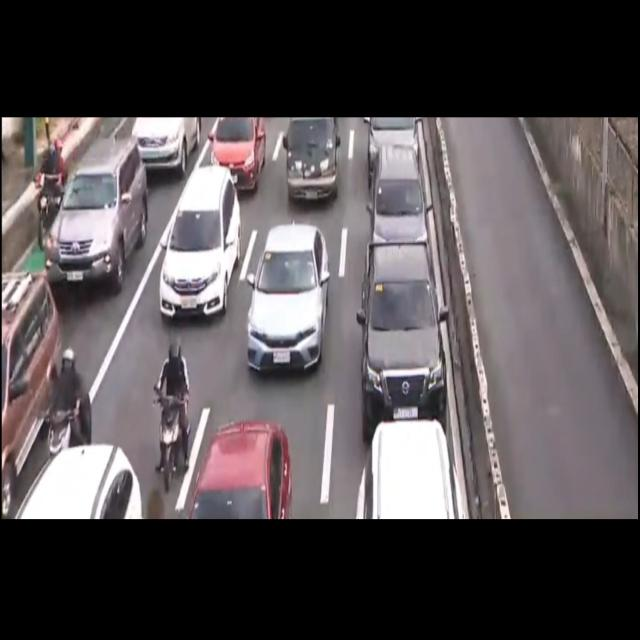Motorcycle: (151, 345, 189, 483), (38, 351, 88, 455)
SUV: (362, 240, 446, 428), (44, 147, 144, 293), (0, 267, 61, 505), (160, 167, 242, 323), (368, 139, 432, 273)
Sedan: (242, 224, 332, 379), (186, 422, 292, 520)
